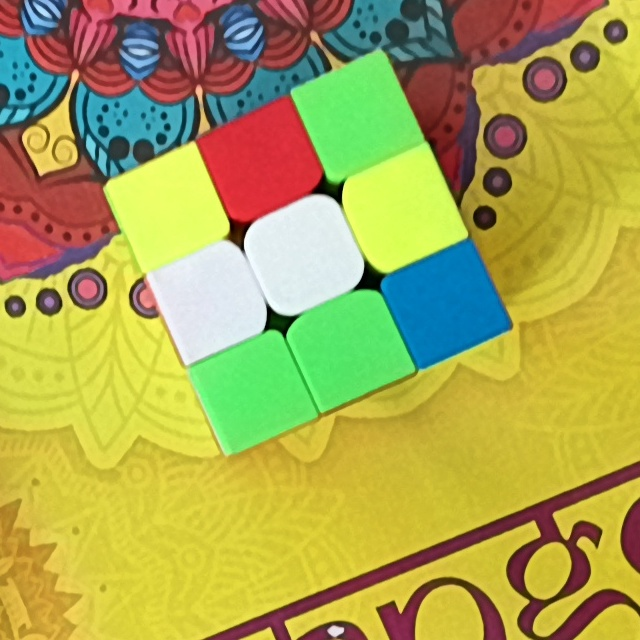tile: (365, 172, 438, 245), (225, 126, 299, 197), (267, 220, 339, 292), (318, 83, 392, 153), (315, 310, 386, 382), (176, 265, 244, 338), (133, 174, 201, 243), (221, 356, 288, 425), (410, 272, 479, 339)
